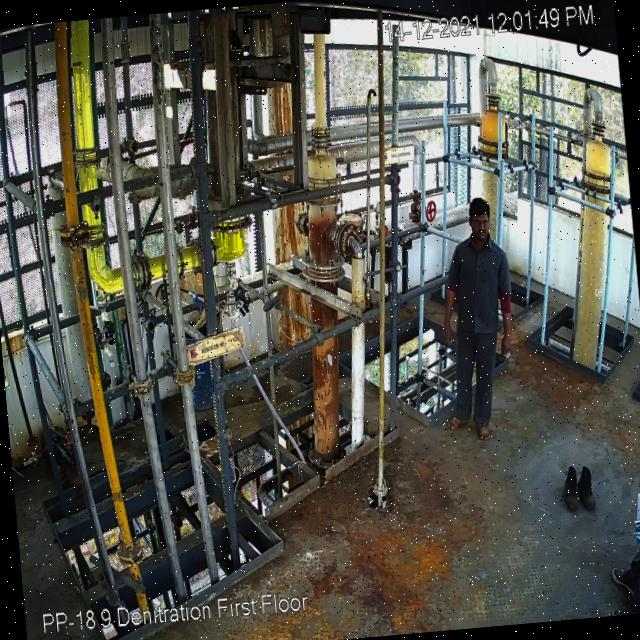boots: (559, 462, 585, 514), (576, 466, 598, 510)
no-boots: (444, 414, 469, 431), (473, 424, 491, 445)
